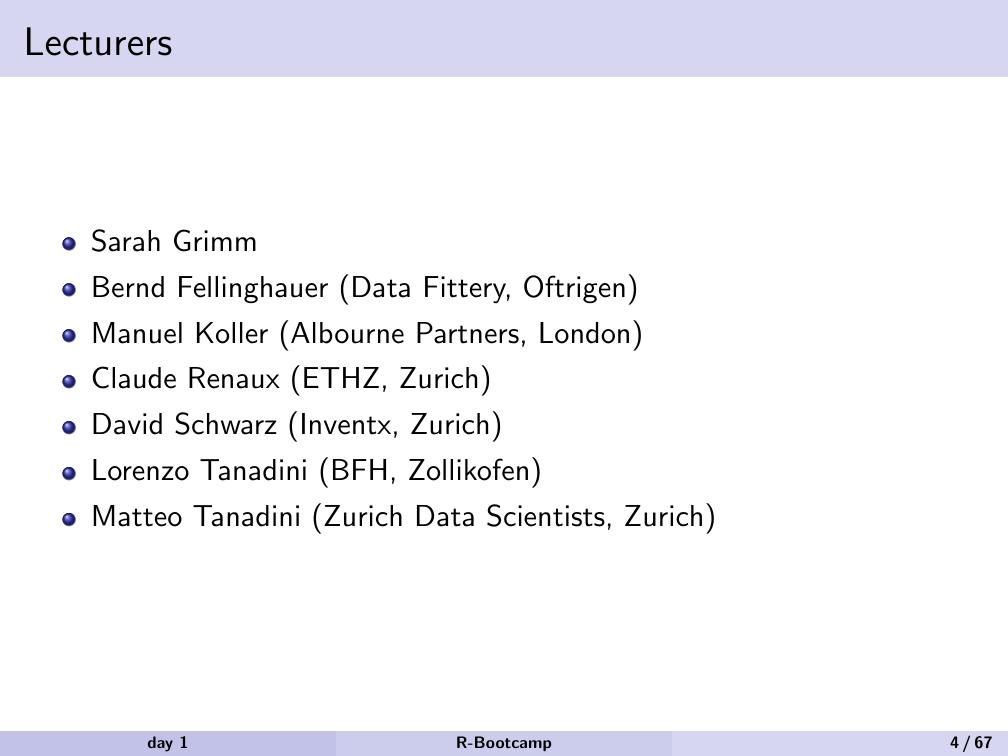Title: (12, 15, 190, 72)
